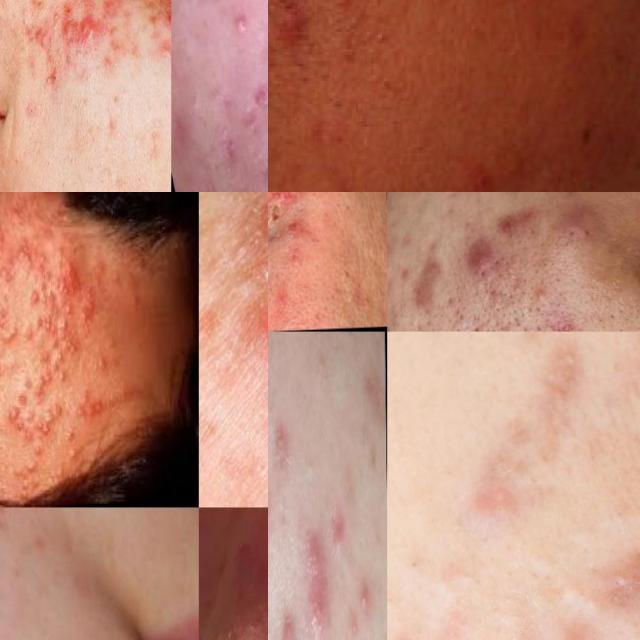acne_scars: (502, 332, 597, 450), (615, 525, 640, 632), (409, 252, 441, 314), (244, 78, 268, 125), (540, 308, 587, 332), (0, 507, 17, 544)
comedone: (16, 82, 54, 142), (546, 566, 587, 613), (5, 0, 38, 50), (120, 157, 157, 192), (86, 179, 118, 192)
papule: (488, 202, 540, 250), (553, 192, 601, 235), (458, 230, 500, 276), (326, 496, 346, 562), (246, 148, 268, 192), (272, 607, 296, 640), (49, 346, 67, 383), (526, 278, 546, 310), (26, 435, 46, 466), (15, 237, 35, 268), (35, 338, 56, 365), (89, 390, 107, 421), (35, 311, 55, 337), (58, 276, 76, 302), (13, 385, 30, 412), (3, 404, 21, 428), (74, 305, 90, 332), (0, 259, 15, 287), (36, 415, 52, 441), (31, 384, 48, 408), (60, 301, 76, 326), (24, 289, 40, 313), (64, 336, 81, 357), (0, 304, 10, 332), (53, 401, 66, 422), (80, 286, 94, 303)
pustule: (219, 0, 259, 50), (285, 192, 302, 205)
sebo-crystan-conglo: (56, 0, 107, 60), (303, 521, 328, 640), (150, 0, 171, 76), (354, 546, 371, 620), (268, 192, 284, 204)
